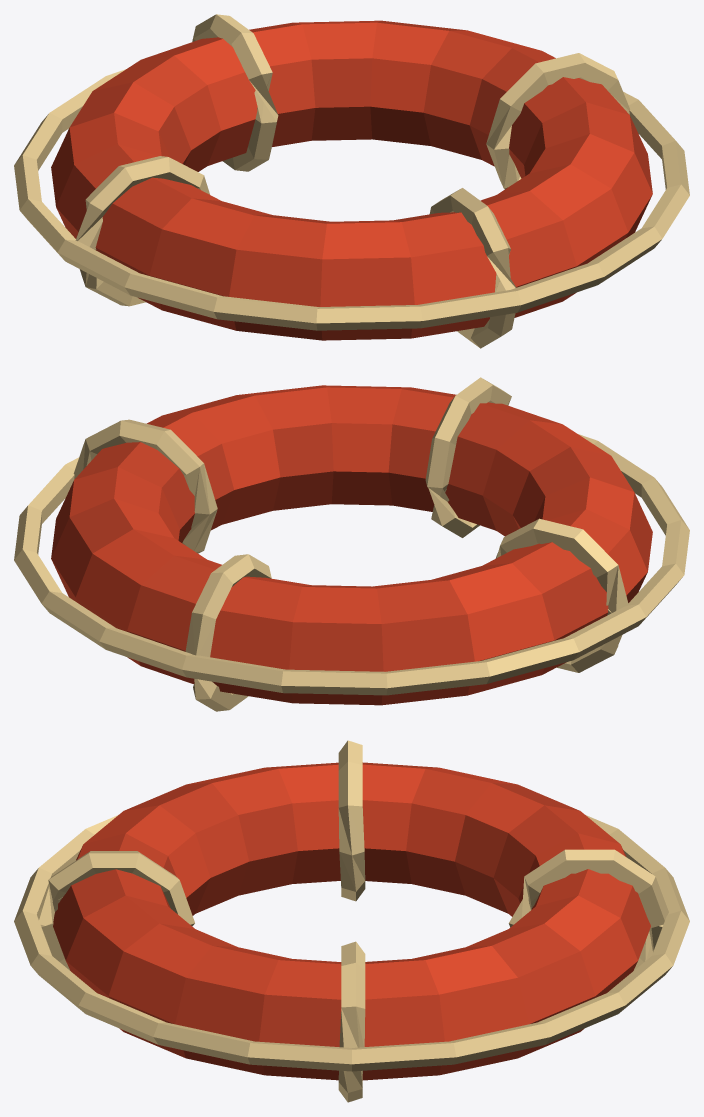
File: EM_LifeRing.fbx
The picture shows the model from 3 angles, top to bottom: view 1: azimuth 30°, elevation 25°; view 2: azimuth 150°, elevation 25°; view 3: azimuth 270°, elevation 25°; orthographic projection.
Visible parts, largest first — view 1: EM_LifeRing; view 2: EM_LifeRing; view 3: EM_LifeRing.
Boxes of the visible parts, left/top/right/bottom form: EM_LifeRing: left=14, top=14, right=689, bottom=348; EM_LifeRing: left=14, top=377, right=689, bottom=711; EM_LifeRing: left=14, top=740, right=689, bottom=1102.
Size of the model in its own units: 0.966 by 0.2208 by 0.966.
Materials: 2 (2 with a texture image).
